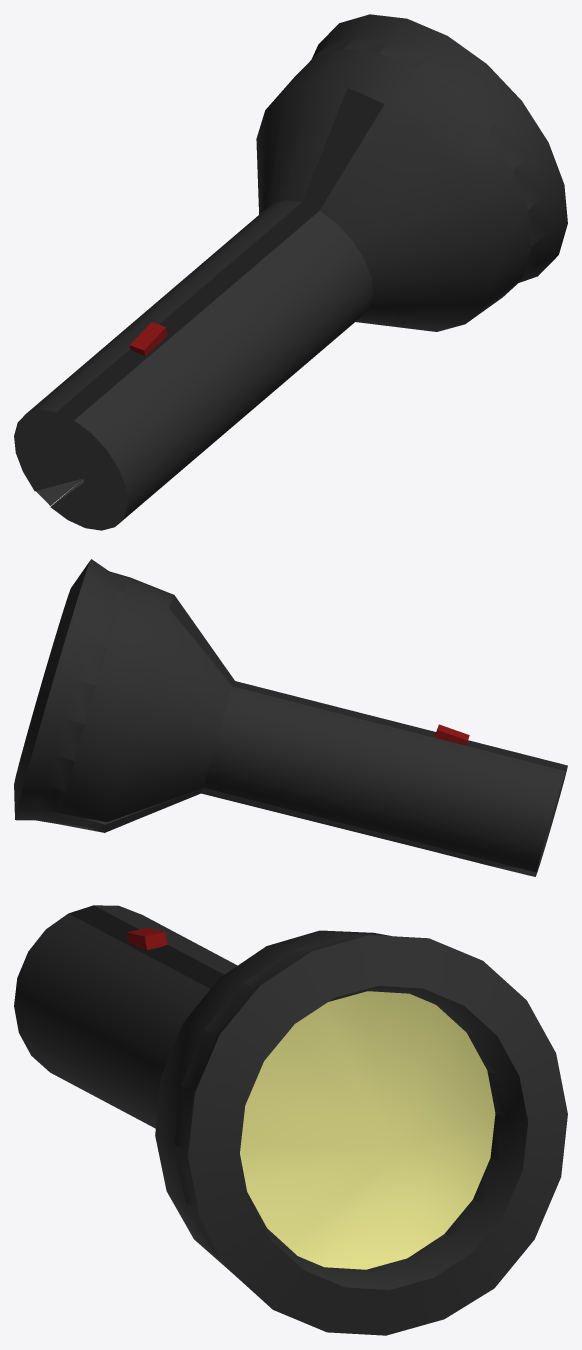
File: flashlight.fbx
3 renders of one model, top to bottom at view 1: azimuth 30°, elevation 25°; view 2: azimuth 150°, elevation 25°; view 3: azimuth 270°, elevation 25°, orthographic. The views are drawn at different scales.
Visible parts, largest first — view 1: pCylinder2; view 2: pCylinder2; view 3: pCylinder2.
Part boxes in pixels (x1,y1,x2,y2): pCylinder2: (14, 14, 567, 530); pCylinder2: (14, 559, 567, 876); pCylinder2: (14, 905, 567, 1335).
Bounding box in the file's own units: 4.42 × 2.43 × 2.96.
